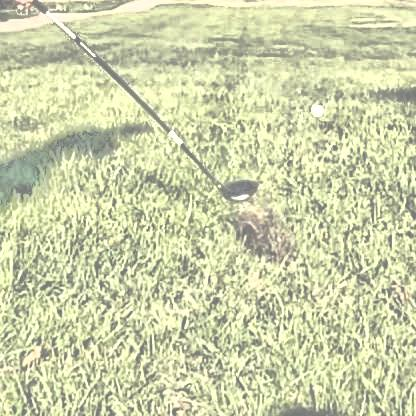golfball: (307, 99, 321, 114)
